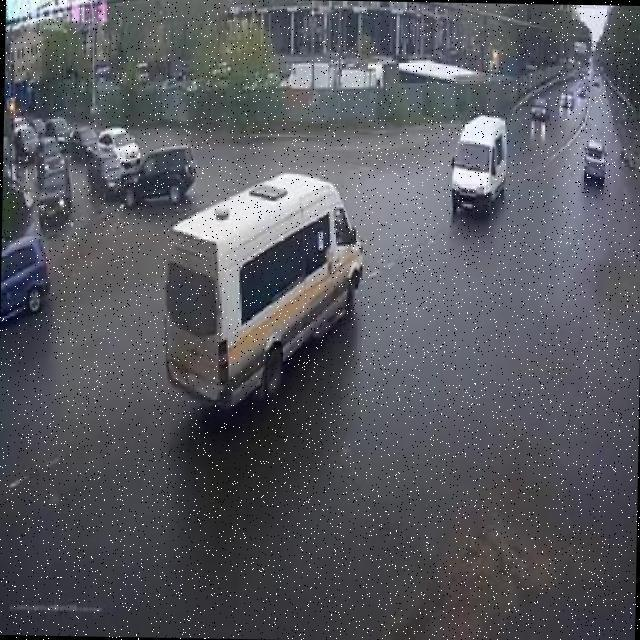accident: (86, 140, 197, 209)
